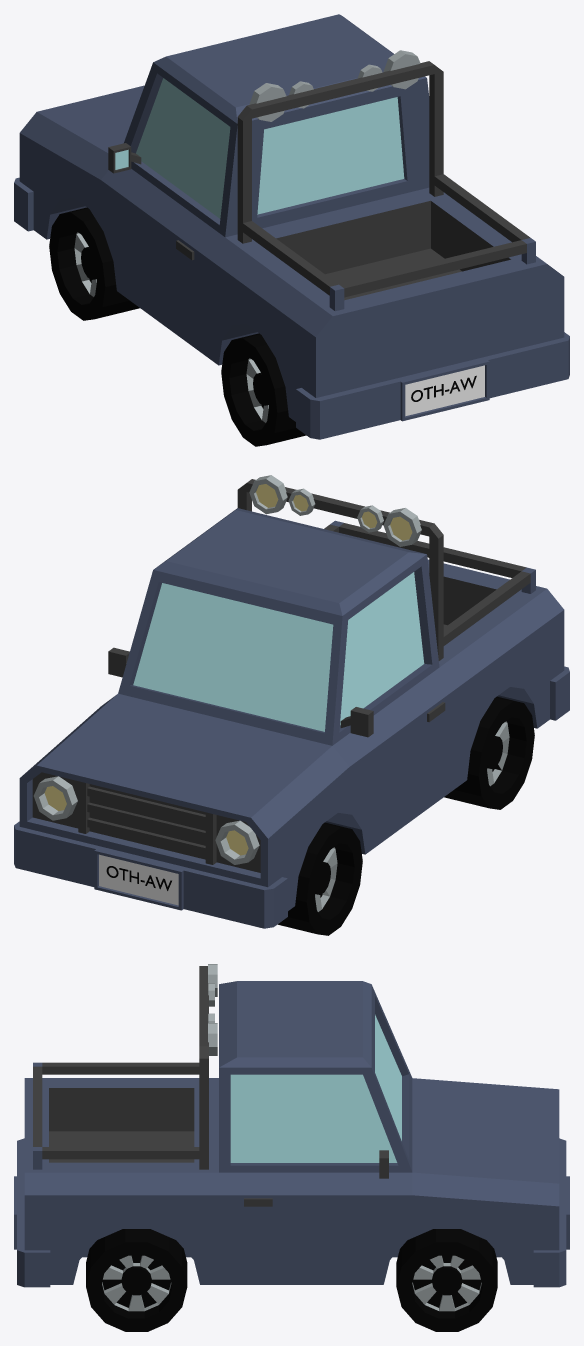
The model's file is pickup.fbx.
The picture shows the model from 3 angles, top to bottom: view 1: azimuth 30°, elevation 25°; view 2: azimuth 150°, elevation 25°; view 3: azimuth 270°, elevation 25°; orthographic projection. The views are drawn at different scales.
Parts seen in each view (by area): view 1: Cube, Cylinder.001, Cylinder.003; view 2: Cube, Cylinder.003, Cylinder.001; view 3: Cube, Cylinder.001, Cylinder.003.
Boxes of the visible parts, x1,y1,x2,y2 form: Cube: (14, 14, 569, 439); Cylinder.001: (49, 207, 139, 320); Cylinder.003: (221, 333, 306, 446); Cube: (14, 475, 569, 928); Cylinder.003: (444, 696, 534, 809); Cylinder.001: (278, 822, 362, 935); Cube: (14, 964, 569, 1287); Cylinder.001: (396, 1229, 497, 1331); Cylinder.003: (86, 1229, 187, 1331).
Size of the model in its own units: 229 by 263 by 471.
